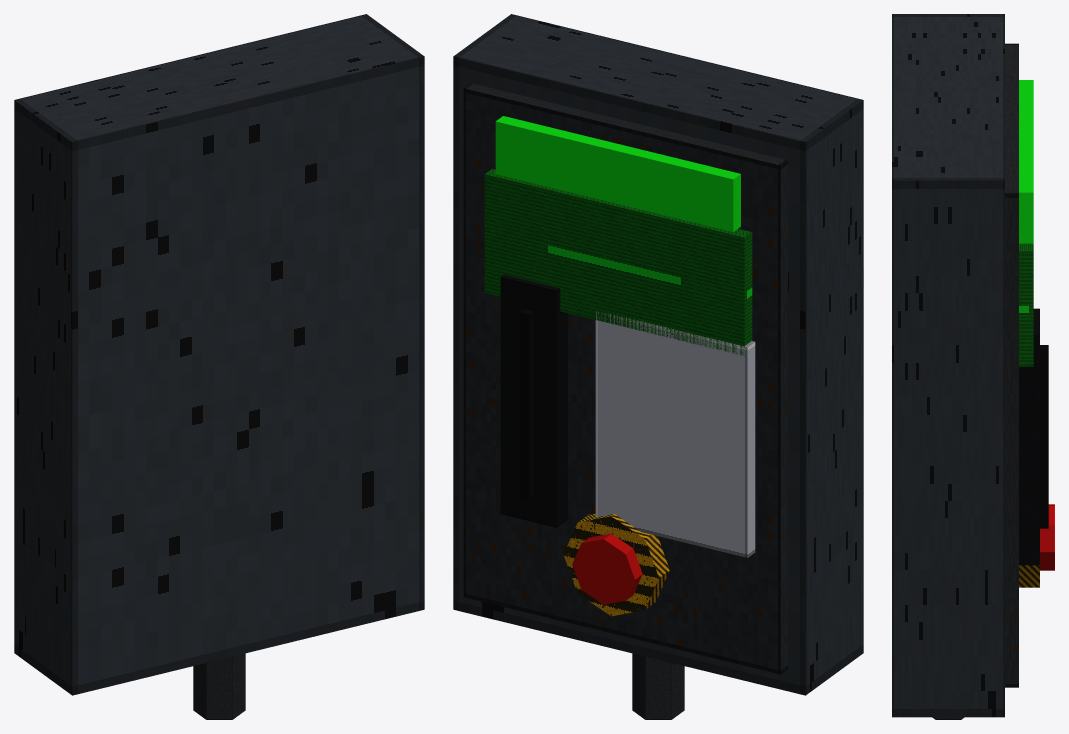
The model's file is pressure_door_control.glb.
3 renders of one model, left to right at view 1: azimuth 30°, elevation 25°; view 2: azimuth 150°, elevation 25°; view 3: azimuth 270°, elevation 25°, orthographic. The views are drawn at different scales.
Visible parts, largest first — view 1: pressure_door_control; view 2: pressure_door_control; view 3: pressure_door_control.
Part boxes in pixels (x1,y1,x2,y2): pressure_door_control: (14, 14, 424, 719); pressure_door_control: (453, 14, 863, 719); pressure_door_control: (892, 14, 1054, 719).
Bounding box in the file's own units: 0.28 × 0.48 × 0.1155.
Materials: 1 (1 with a texture image).
